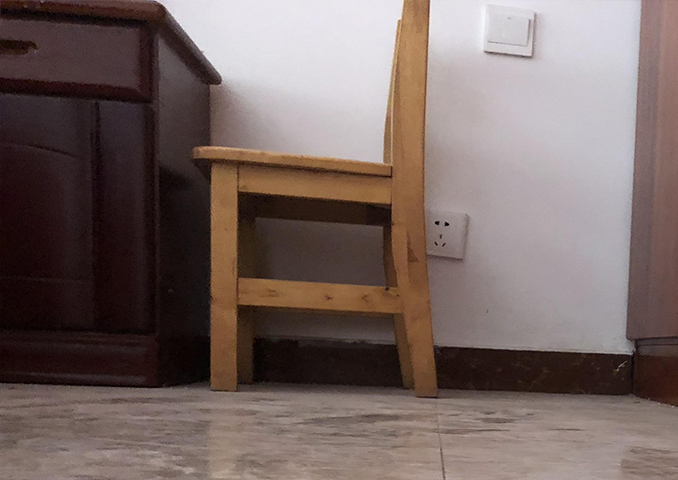cabinet: (1, 1, 223, 388)
stool: (188, 1, 441, 400)
